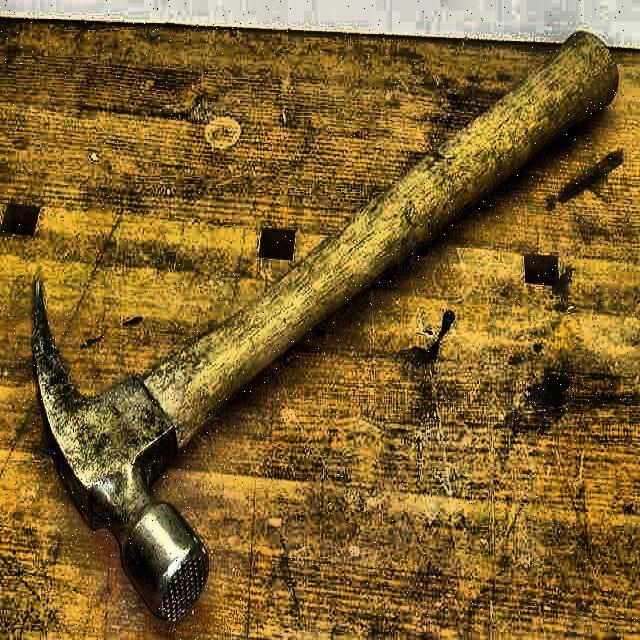hammer: (33, 27, 623, 627)
